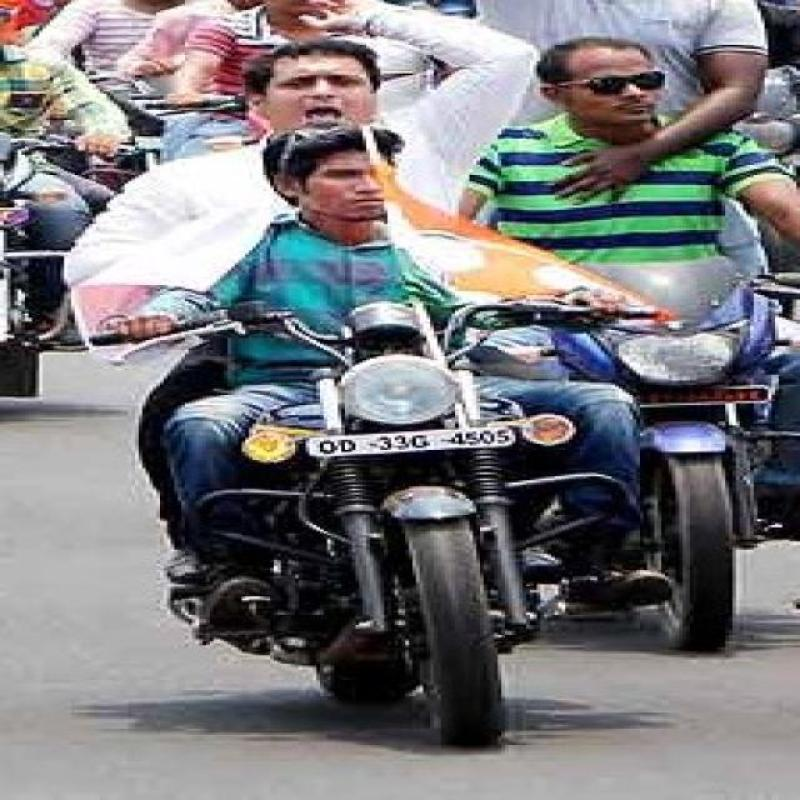nohelmet: (499, 30, 720, 142), (258, 111, 428, 214), (233, 45, 397, 116)
